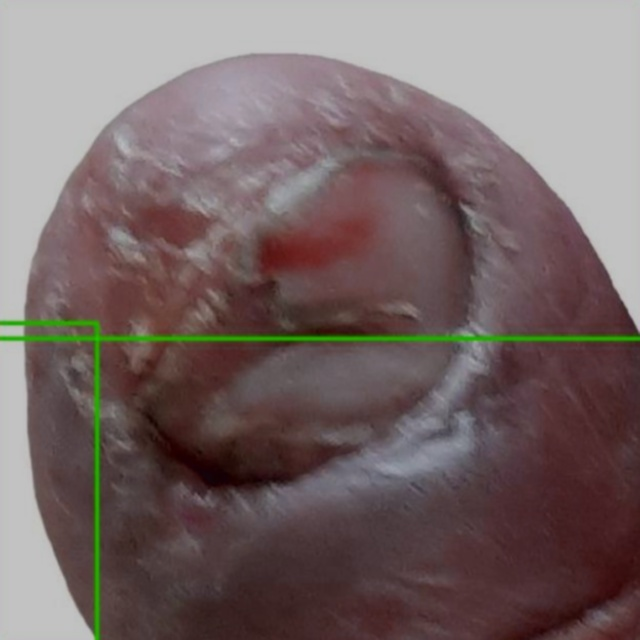Contact Dermatitis: (0, 0, 639, 338), (0, 323, 97, 639)
